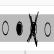correct: (15, 15, 24, 44)
not correct: (27, 10, 38, 48)
